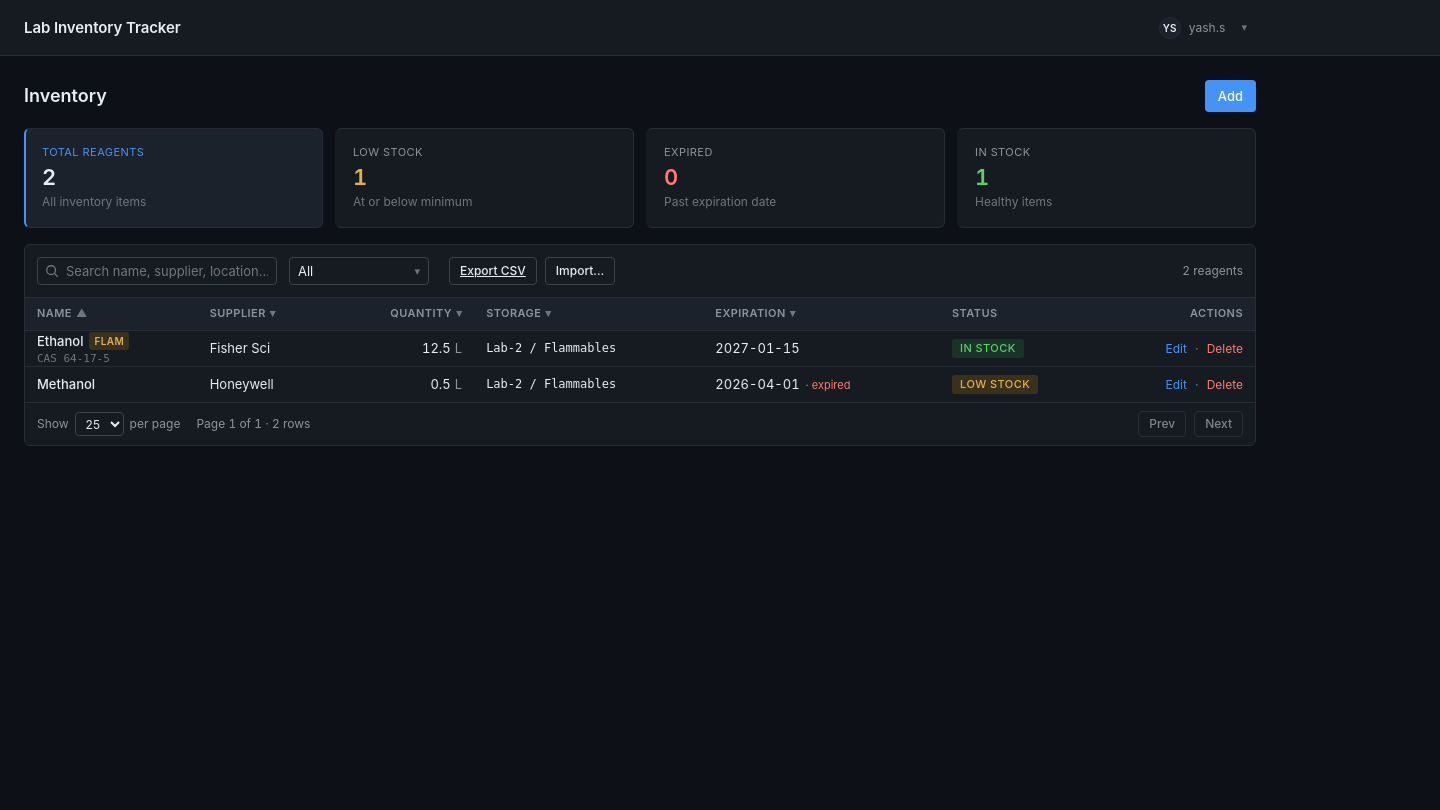
Scenario: App › shows a conflict banner with a Reload button when update returns 409
Expected: the text "Ethanol" is shown, [37,332,83,348]
Click the button with aria-label "Edit Ethanol" at (1176, 349), box [1166,341,1187,356]
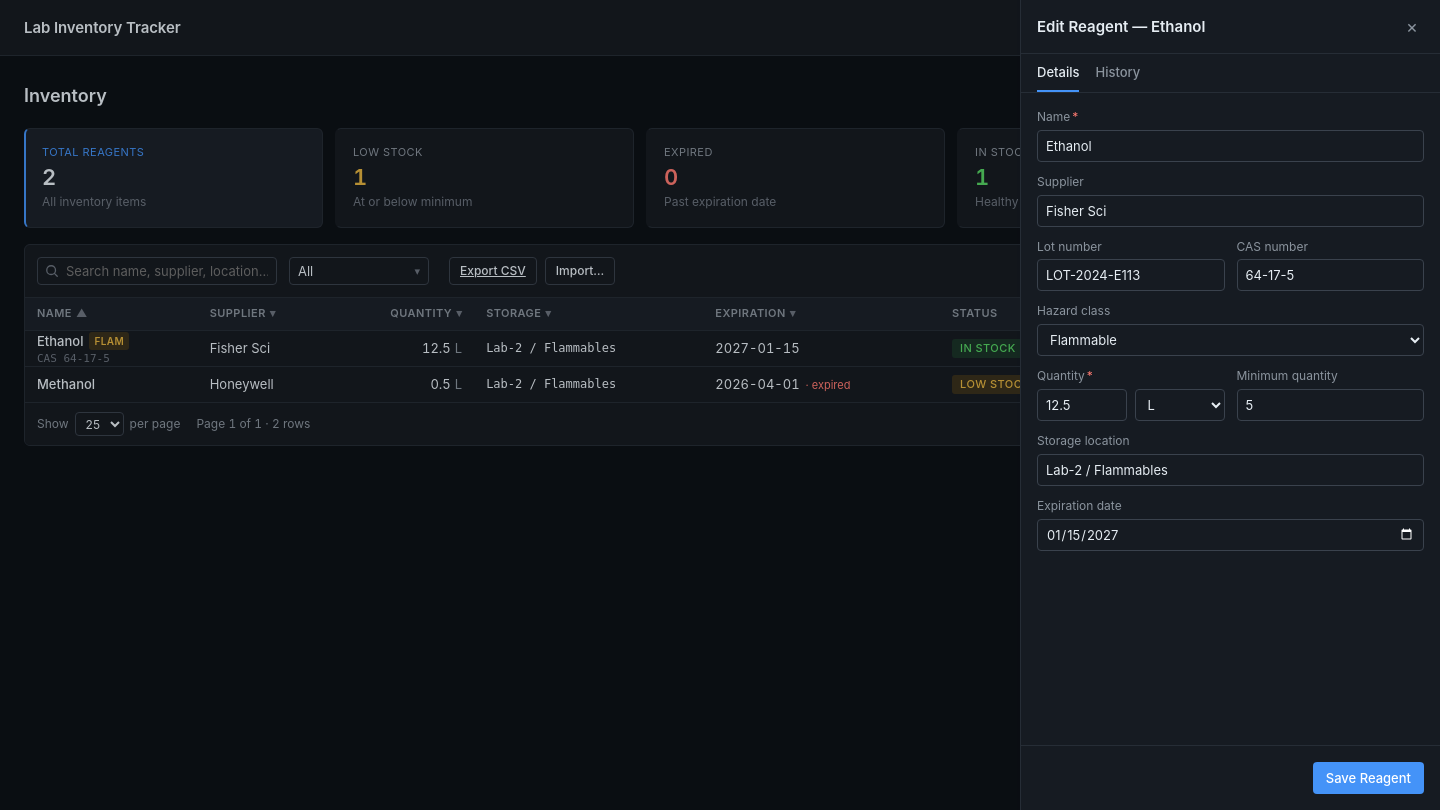
Click the button "Save Reagent" at (1368, 778), box [1313,762,1424,794]
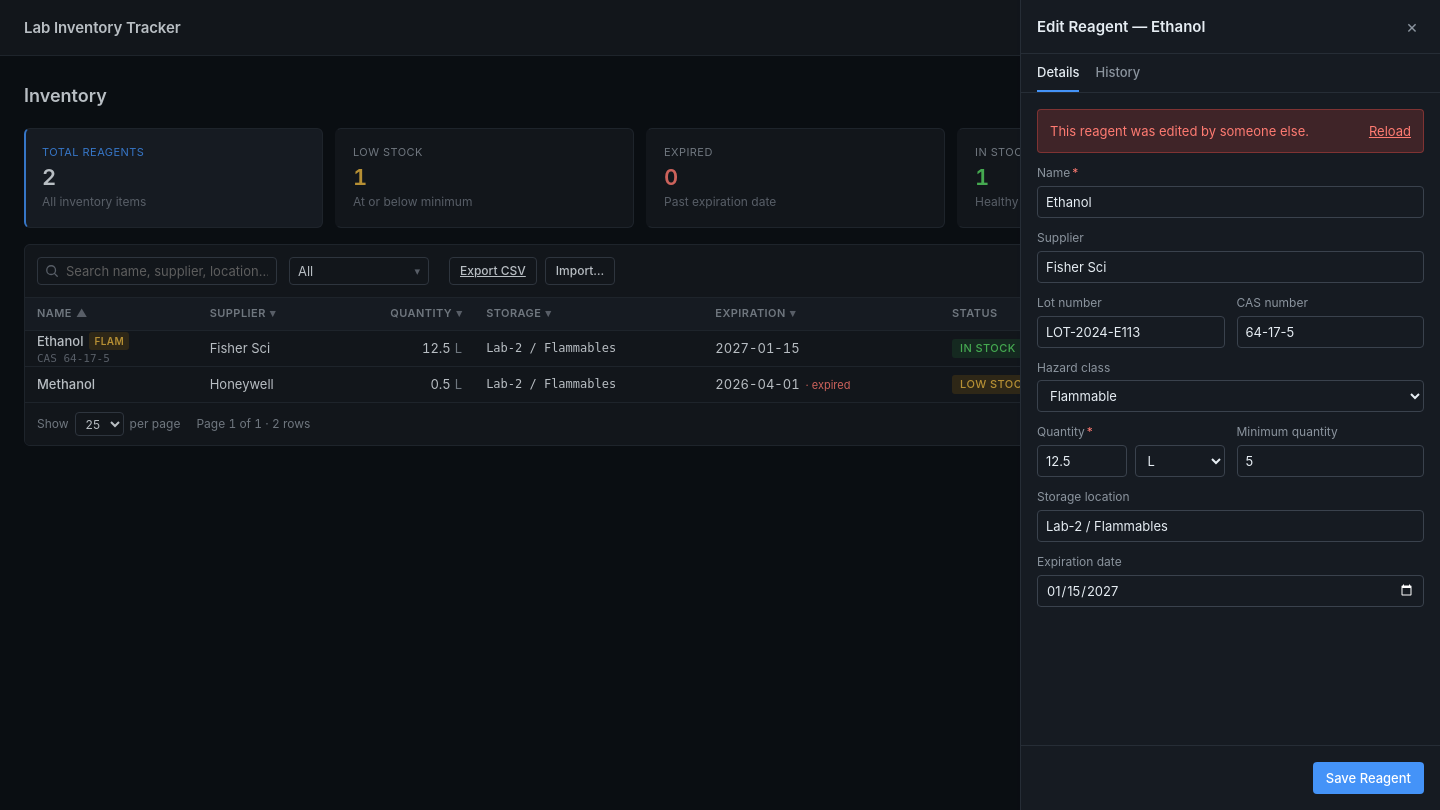
Now the text "This reagent was edited by someone else." is shown, box [1050,122,1309,140]
Click the button "Reload" at (1390, 131), box [1369,122,1411,140]
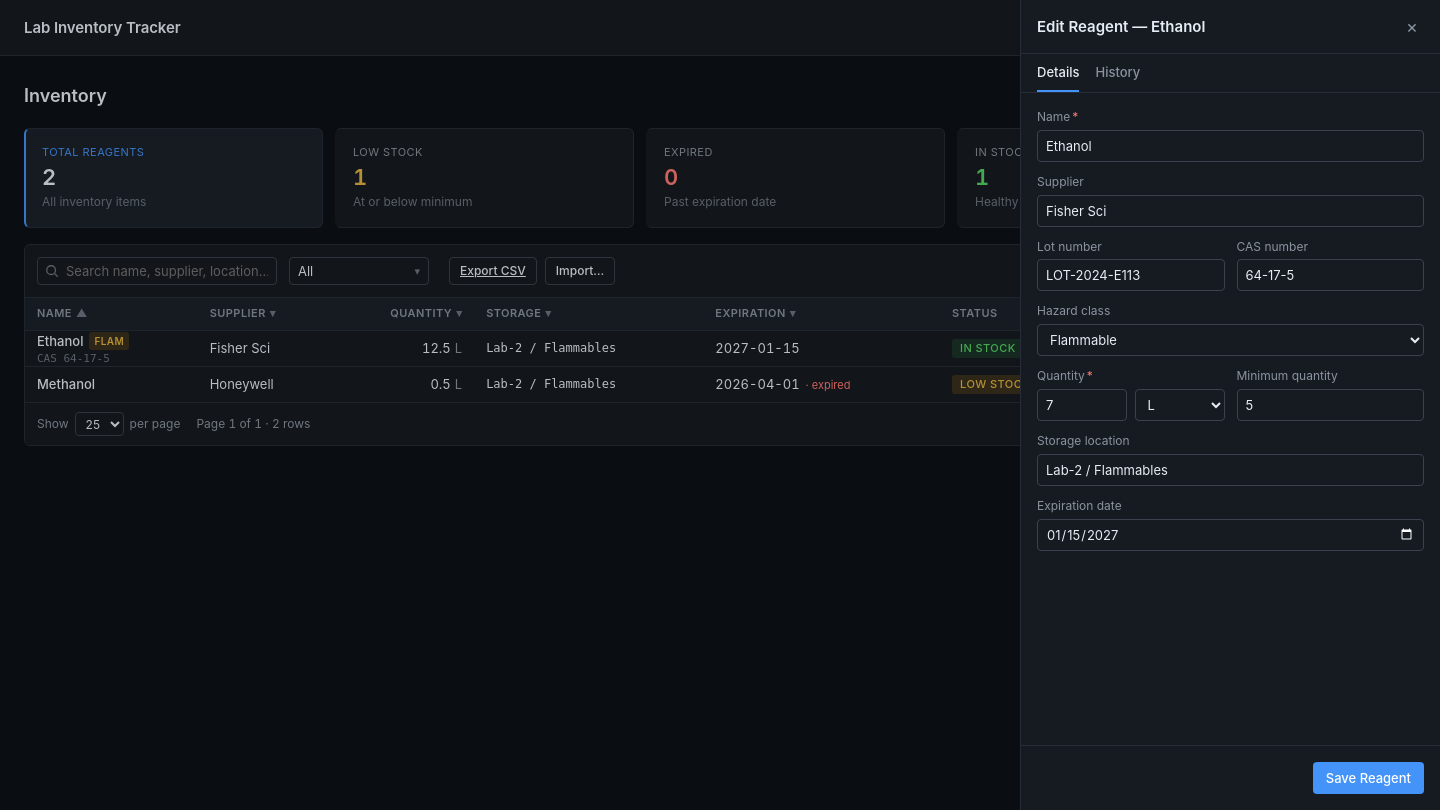
Now the text "edited by someone else" is gone
